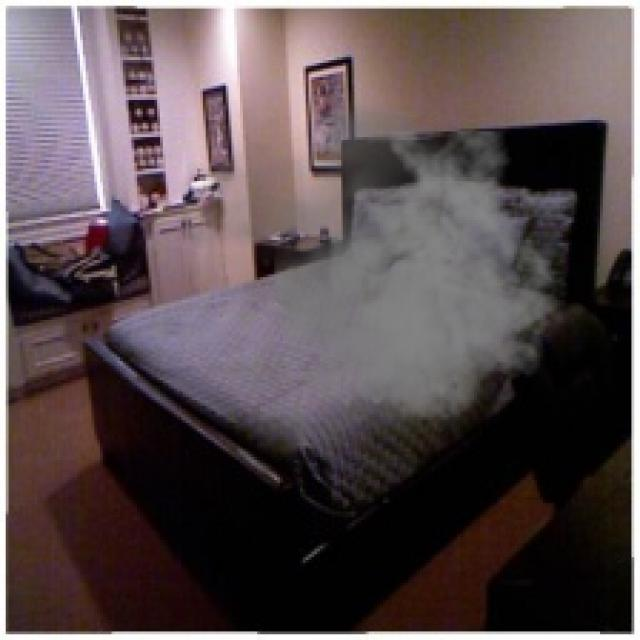smoke: (168, 88, 566, 446)
